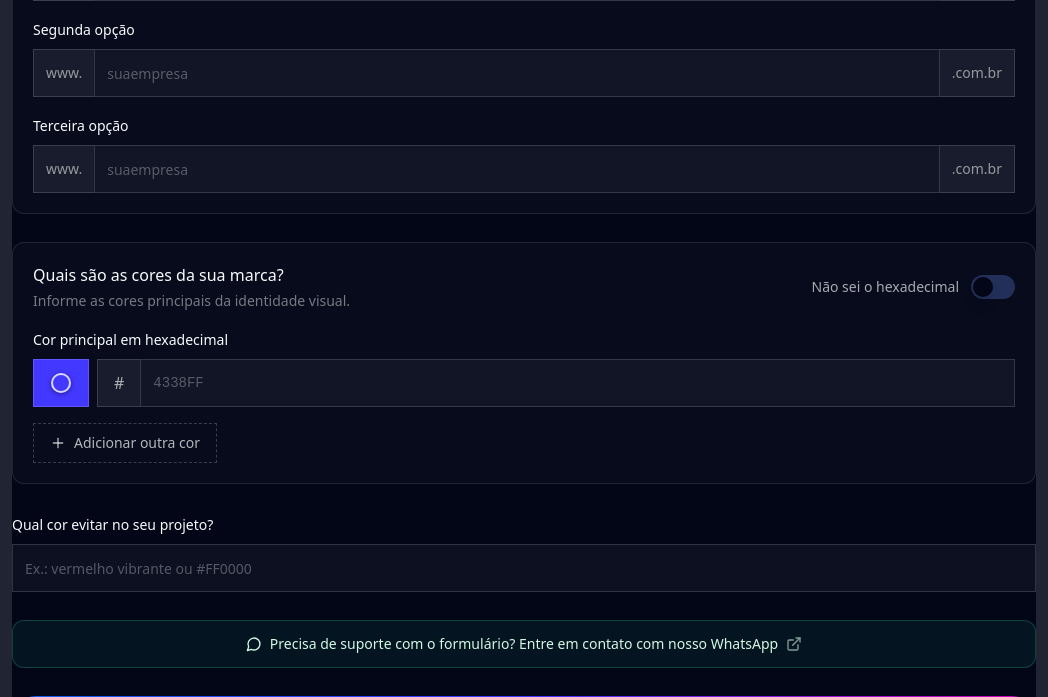
Test: BriefingForm › sincroniza o seletor visual e permite remover cores adicionais
(page scrolled)
Type "#ff5500" into the colour field named "Selecionar cor principal em hexadecimal" at [61, 383], box [33, 359, 89, 407]
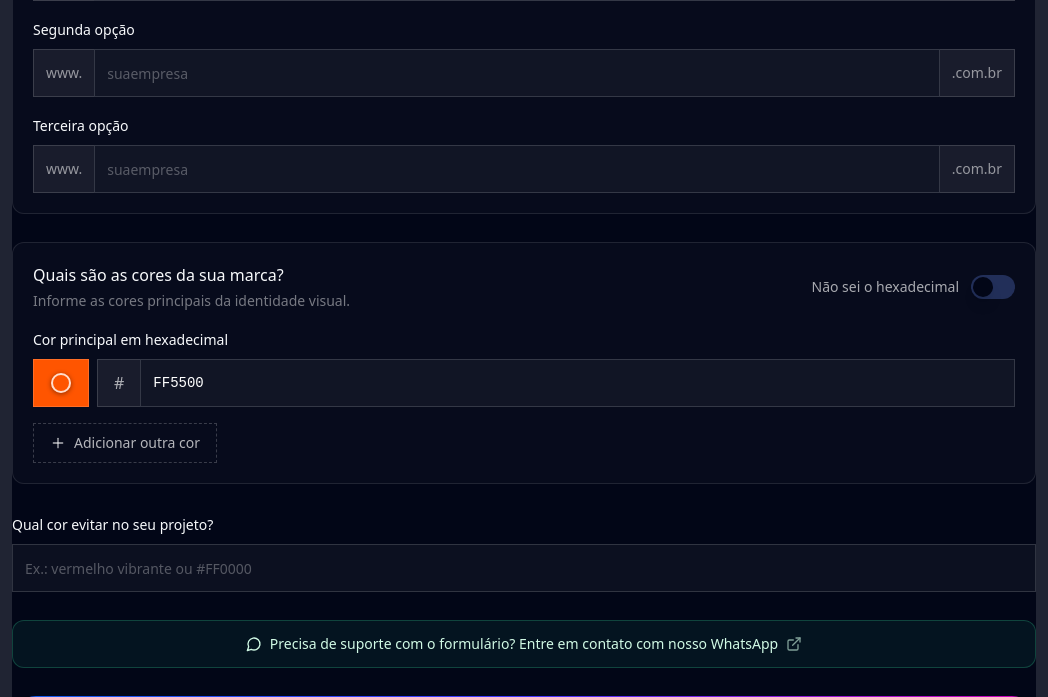
Now the field labelled "Cor principal em hexadecimal" holds "ff5500", box [140, 359, 1015, 407]
Click the button "Adicionar outra cor" at [125, 443], box [33, 423, 217, 463]
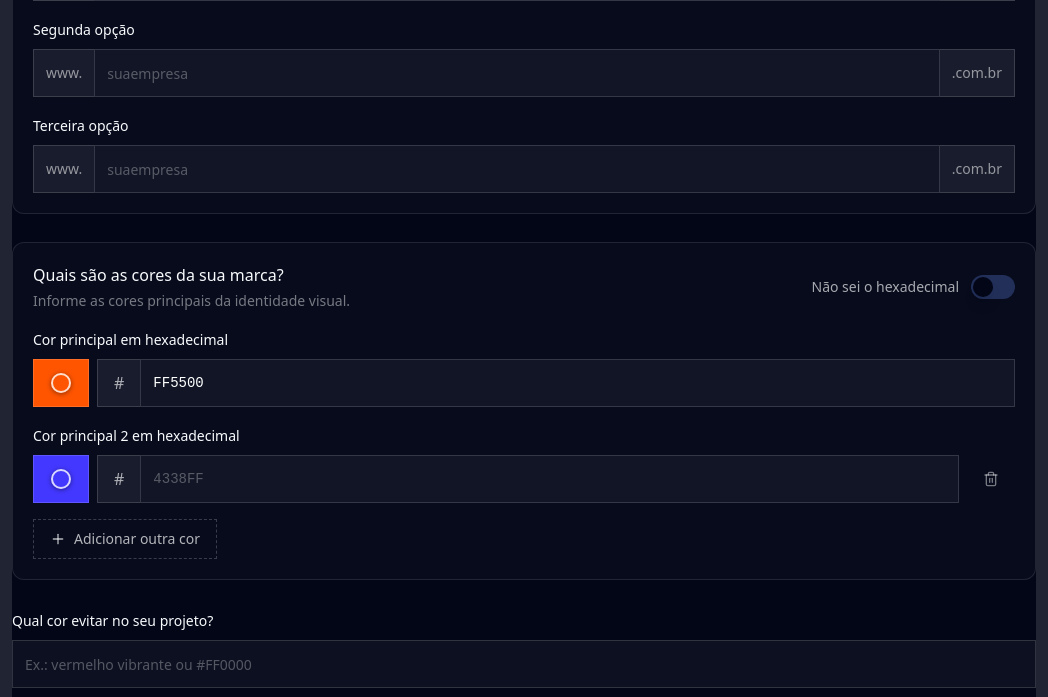
Now the field labelled "Cor principal 2 em hexadecimal" is shown, box [140, 455, 959, 503]
Click the button named "Remover cor principal 2" at [991, 479], box [967, 455, 1015, 503]
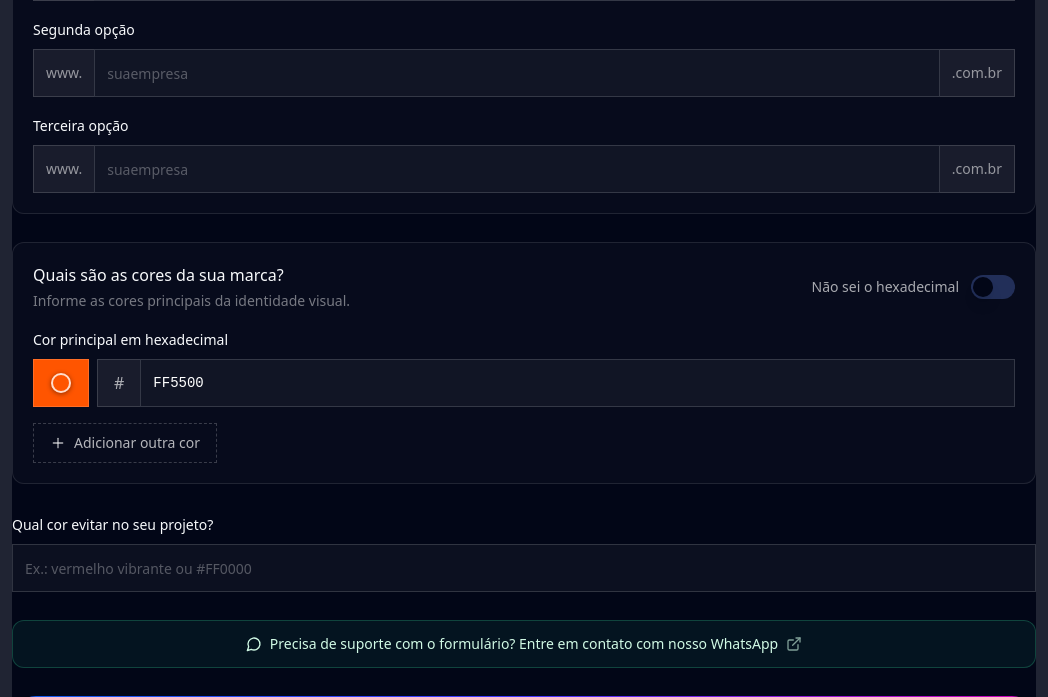
Now the label labelled "Cor principal 2 em hexadecimal" is gone
